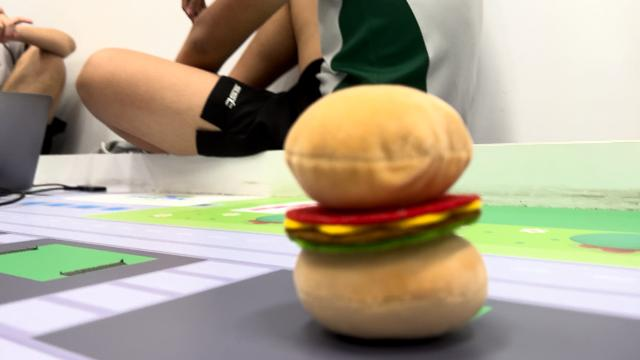burger: (276, 80, 494, 340)
